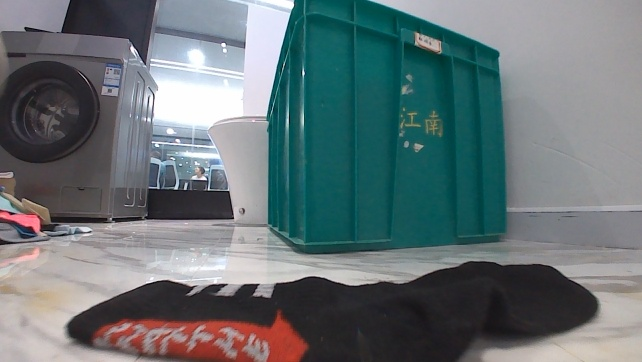socks: (63, 256, 601, 361)
toilet: (206, 111, 270, 227)
washing_machine: (0, 25, 160, 225)
